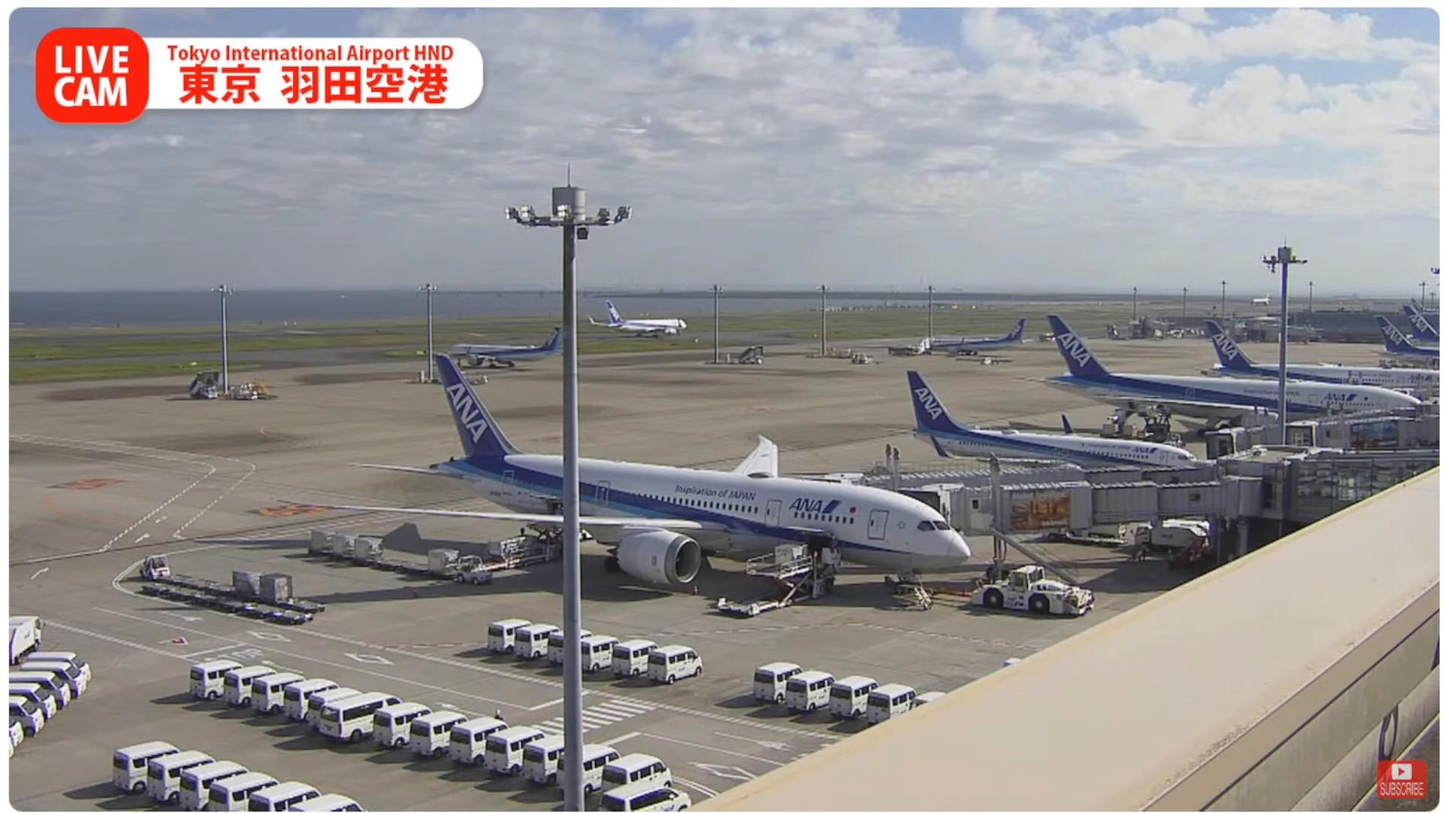APS: (969, 564, 1106, 619)
Aerobridge: (899, 476, 1264, 540), (843, 457, 1217, 496)
Airplane: (330, 354, 973, 599)
Dolly: (143, 579, 315, 626), (306, 524, 455, 578), (158, 568, 326, 613)
JCPL: (717, 553, 843, 617), (450, 522, 565, 575)
Tractor: (454, 553, 493, 585), (138, 551, 175, 580)
Window: (1290, 456, 1440, 523)
